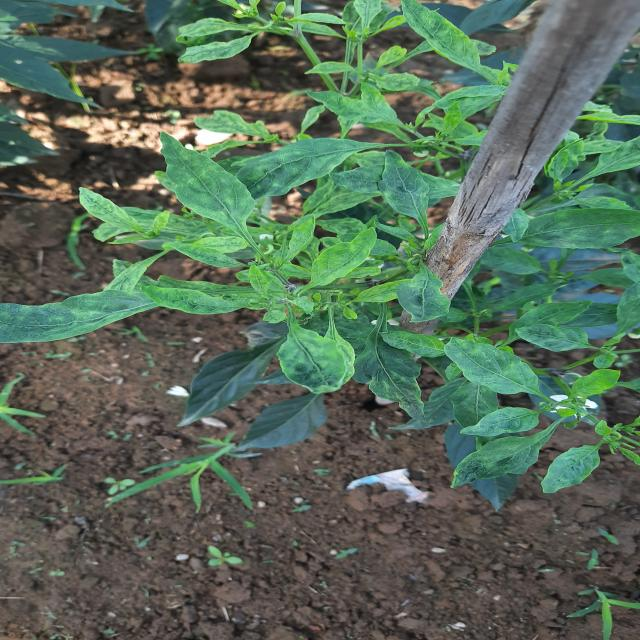thrips: (146, 135, 266, 236), (0, 290, 158, 346), (272, 318, 357, 398), (444, 433, 549, 491), (404, 270, 458, 328)
